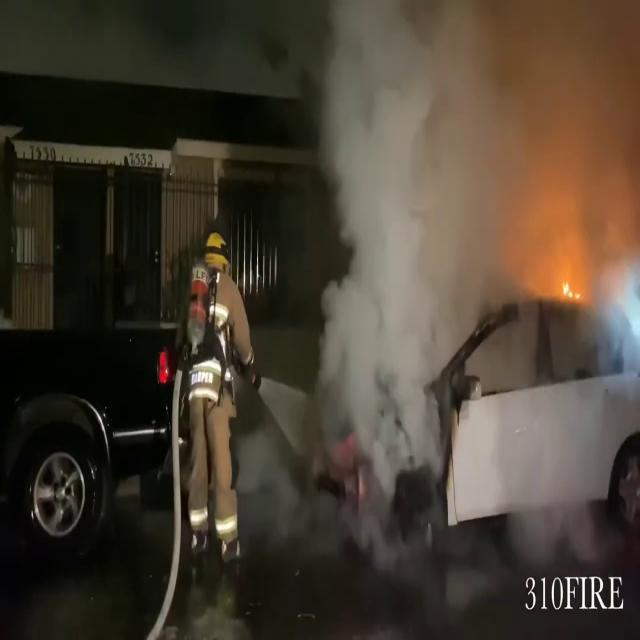Smoke: (268, 0, 640, 496)
